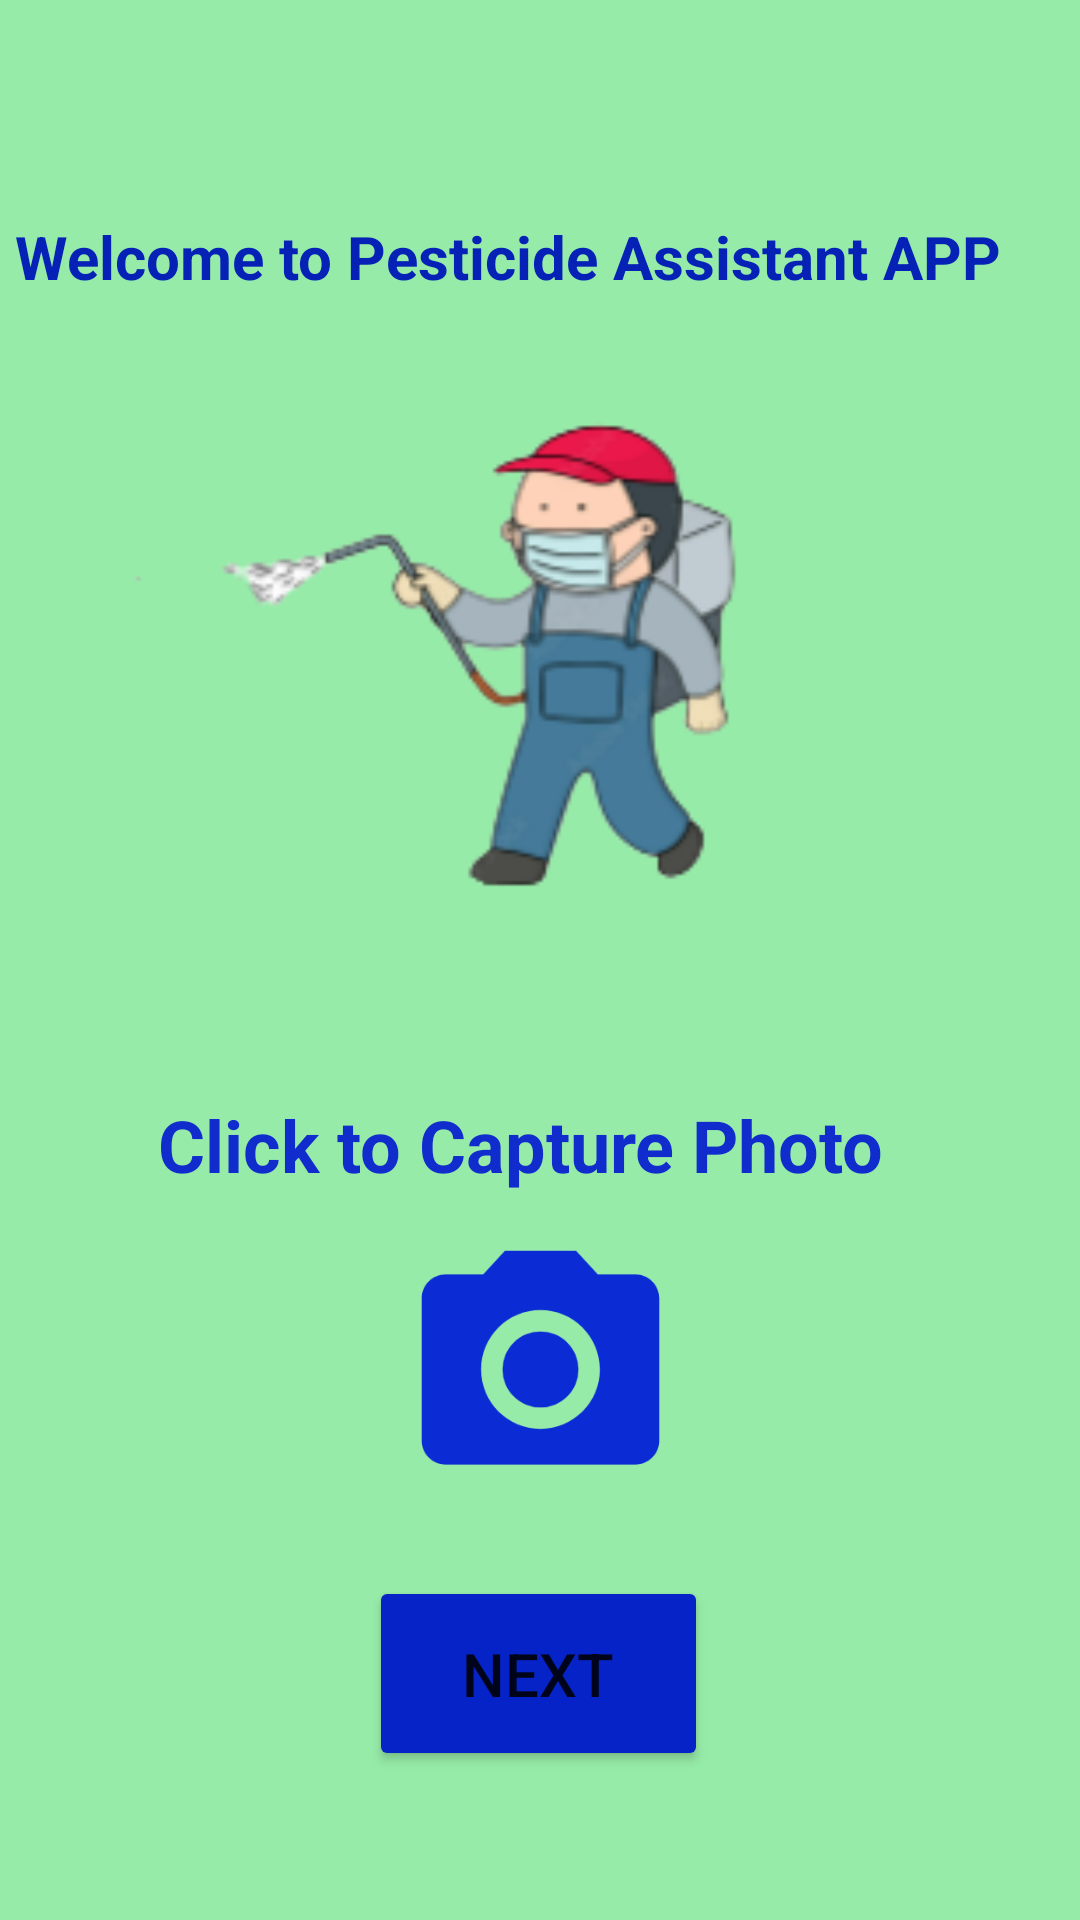

Icons on this 1080px×1920px Android screen, each with its box as (x1, y1, x2, y2):
photo camera: (421, 1250, 660, 1465)
